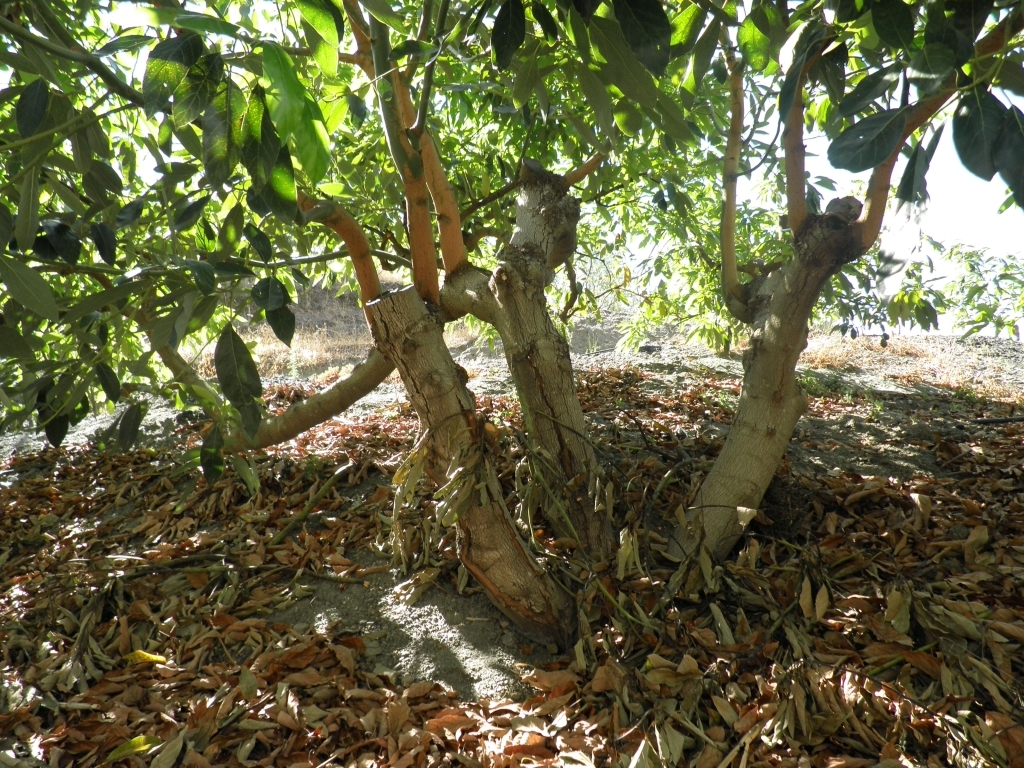Tree: (0, 0, 1022, 642)
